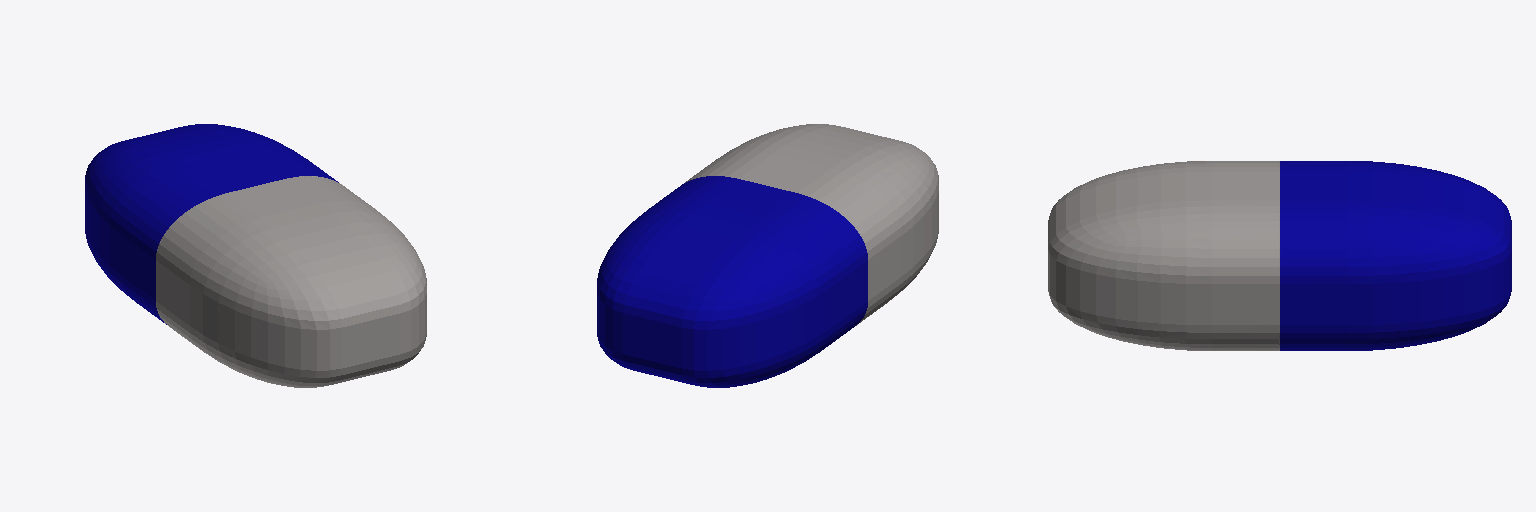
Rendered from PilleBlue.obj.
3 views of the same model, side by side, from view 1: azimuth 30°, elevation 25°; view 2: azimuth 150°, elevation 25°; view 3: azimuth 270°, elevation 25° (orthographic).
Parts seen in each view (by area): view 1: Cube; view 2: Cube; view 3: Cube.
Boxes of the visible parts, <box> form: Cube: <box>85,124,426,387</box>; Cube: <box>597,124,938,387</box>; Cube: <box>1048,161,1511,350</box>.
Bounding box in the file's own units: 0.3 × 0.2 × 0.6.